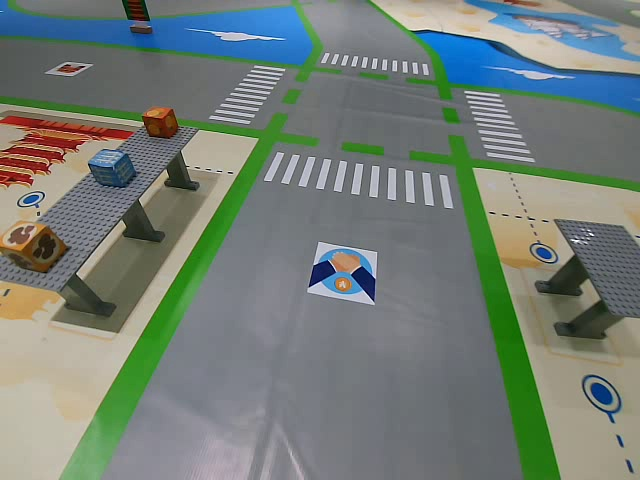fishes: (90, 147, 136, 188)
oranges: (144, 108, 182, 141)
pinecones: (2, 216, 72, 272)
thingsTurnStars: (312, 244, 378, 302)
